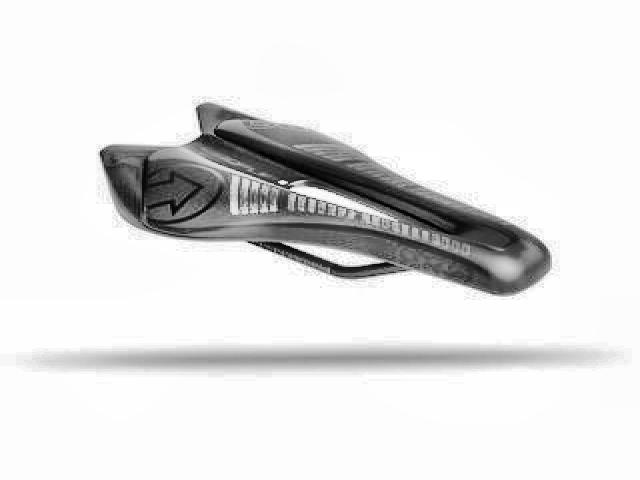saddle: (94, 96, 554, 299)
